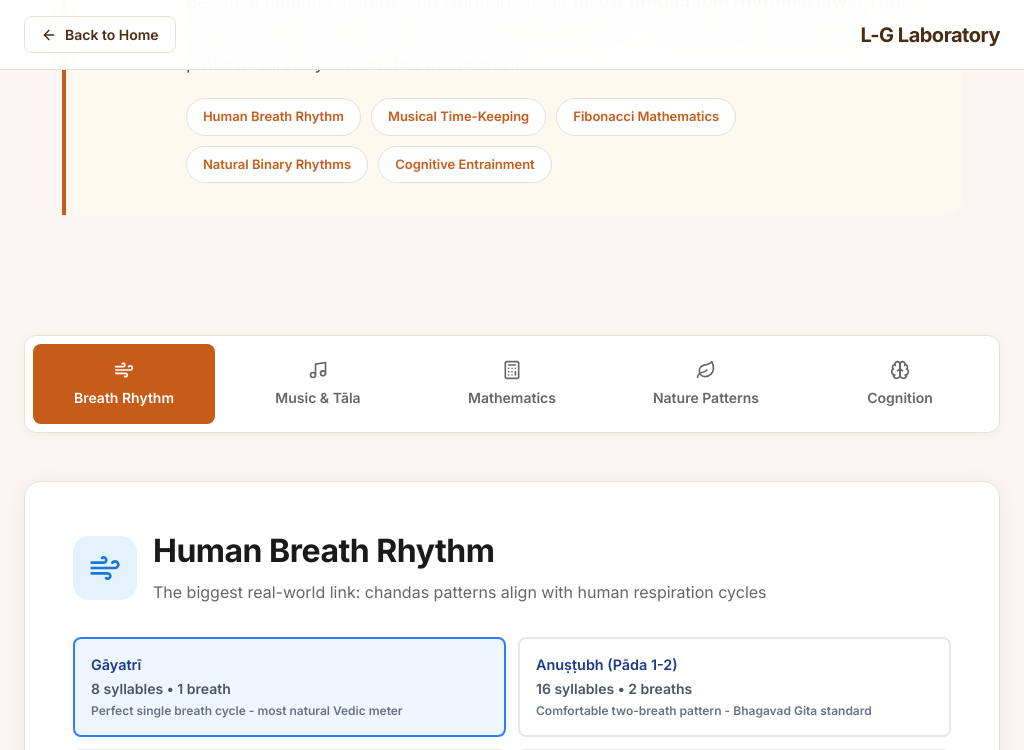
LGLab › shows the oral tradition notes on the cognition tab
(page scrolled)
Click the button "Cognition" at (900, 384), box x1=809 y1=344 x2=991 y2=424
(page scrolled)
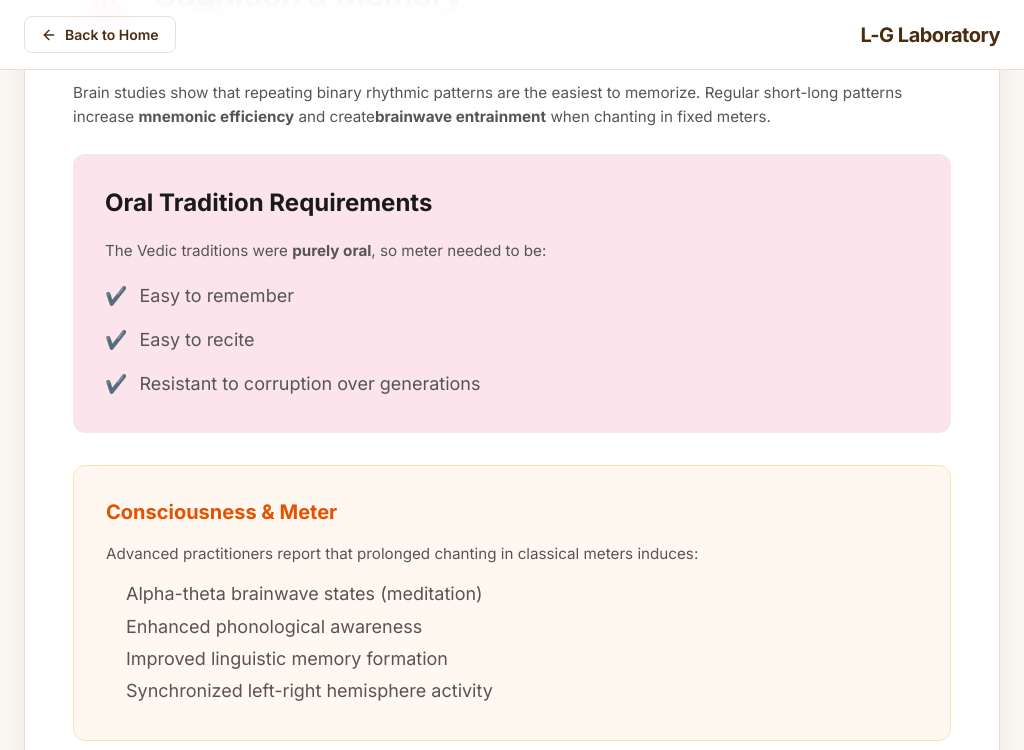
expect the text "Resistant to corruption over generations" is shown: met, box x1=140 y1=368 x2=480 y2=401
